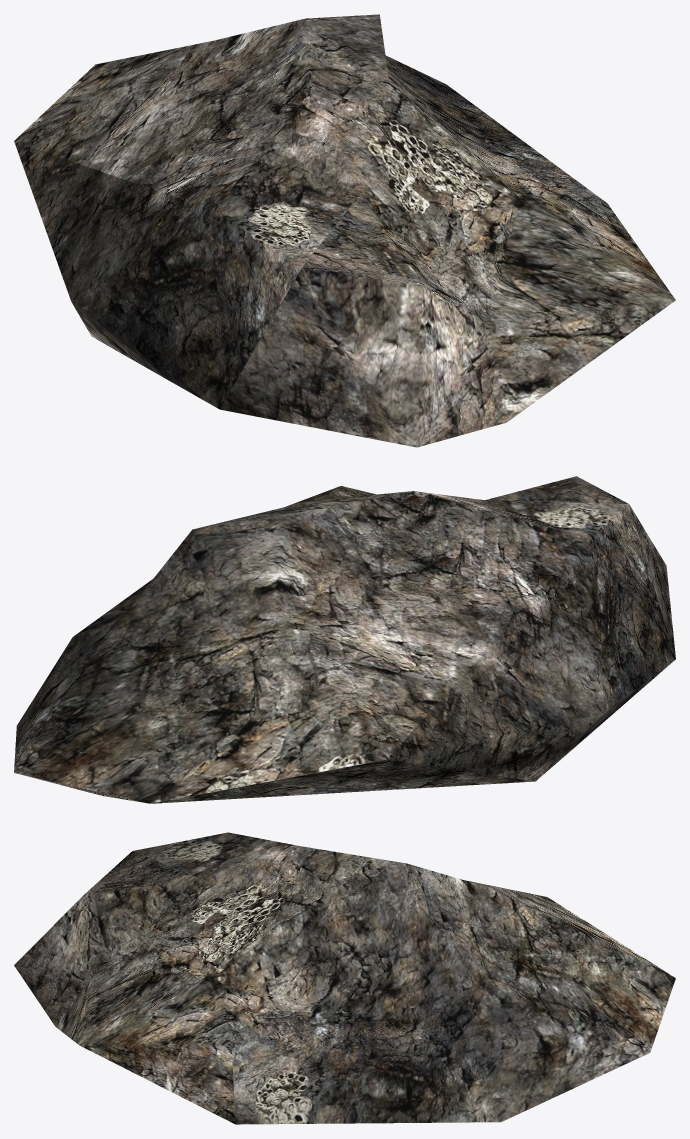
File: pir_m_prp_dvj_rock_i.fbx
The picture shows the model from 3 angles, top to bottom: view 1: azimuth 30°, elevation 25°; view 2: azimuth 150°, elevation 25°; view 3: azimuth 270°, elevation 25°; orthographic projection. The views are drawn at different scales.
Visible parts, largest first — view 1: lod_high; view 2: lod_high; view 3: lod_high.
Part boxes in pixels (x1,y1,x2,y2): lod_high: [14, 14, 675, 447]; lod_high: [14, 476, 675, 803]; lod_high: [14, 832, 675, 1124].
Bounding box in the file's own units: 989 × 499 × 1465.
1 material, 1 textured.
